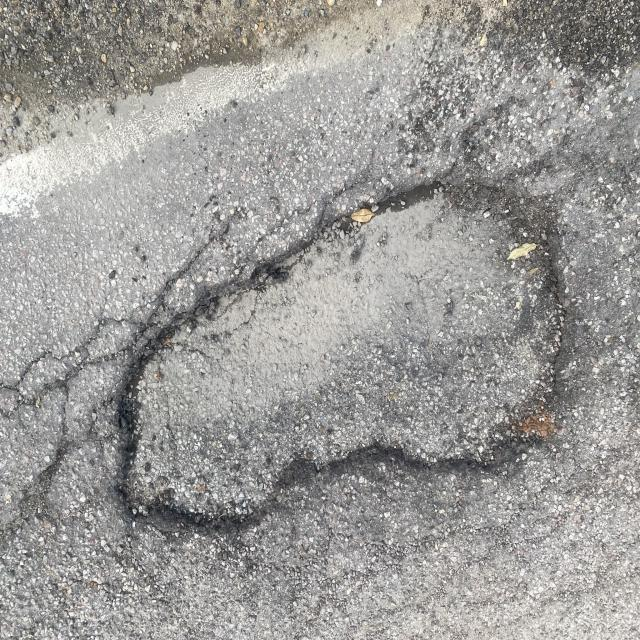Pothole: (84, 149, 593, 547)
